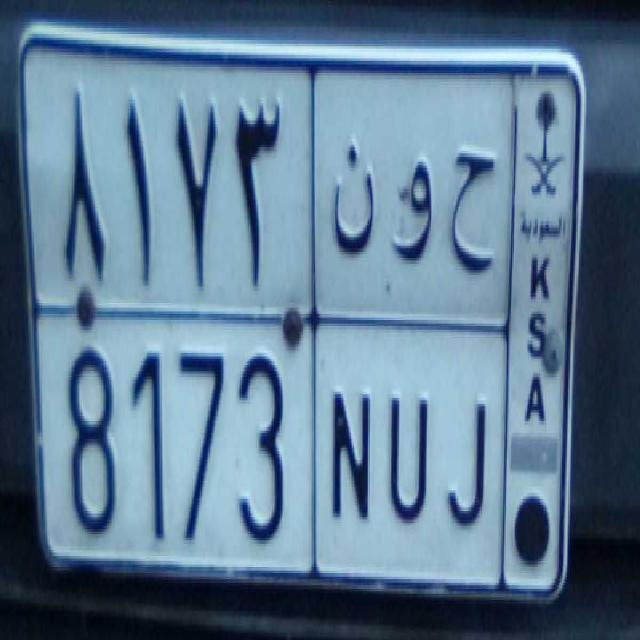license_plate: (38, 308, 503, 592)
